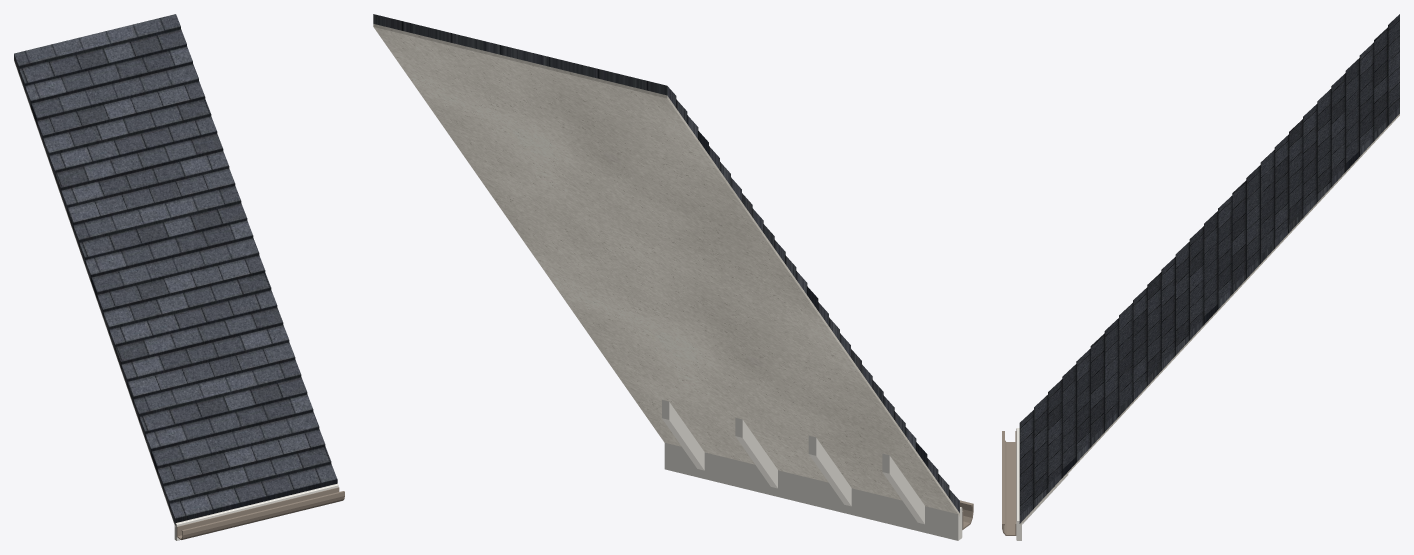
File: roof_eave.glb
3 renders of one model, left to right at view 1: azimuth 30°, elevation 25°; view 2: azimuth 150°, elevation 25°; view 3: azimuth 270°, elevation 25°, orthographic. The views are drawn at different scales.
Visible parts, largest first — view 1: roof_eave_shingles, roof_eave_gutter, roof_eave_trim, roof_eave_plaster; view 2: roof_eave_plaster, roof_eave_trim, roof_eave_shingles; view 3: roof_eave_shingles, roof_eave_gutter, roof_eave_plaster, roof_eave_trim.
Boxes of the visible parts, x1,y1,x2,y2 form: roof_eave_shingles: (14, 14, 337, 525); roof_eave_gutter: (176, 487, 344, 539); roof_eave_trim: (174, 483, 338, 540); roof_eave_plaster: (14, 59, 175, 526); roof_eave_plaster: (373, 24, 959, 516); roof_eave_trim: (662, 400, 962, 540); roof_eave_shingles: (373, 14, 959, 512); roof_eave_shingles: (1019, 14, 1399, 523); roof_eave_gutter: (1002, 431, 1016, 535); roof_eave_plaster: (1019, 114, 1399, 525); roof_eave_trim: (1016, 428, 1068, 540).
Size of the model in its own units: 2 by 4.35 by 3.61.
4 materials, 2 textured.
